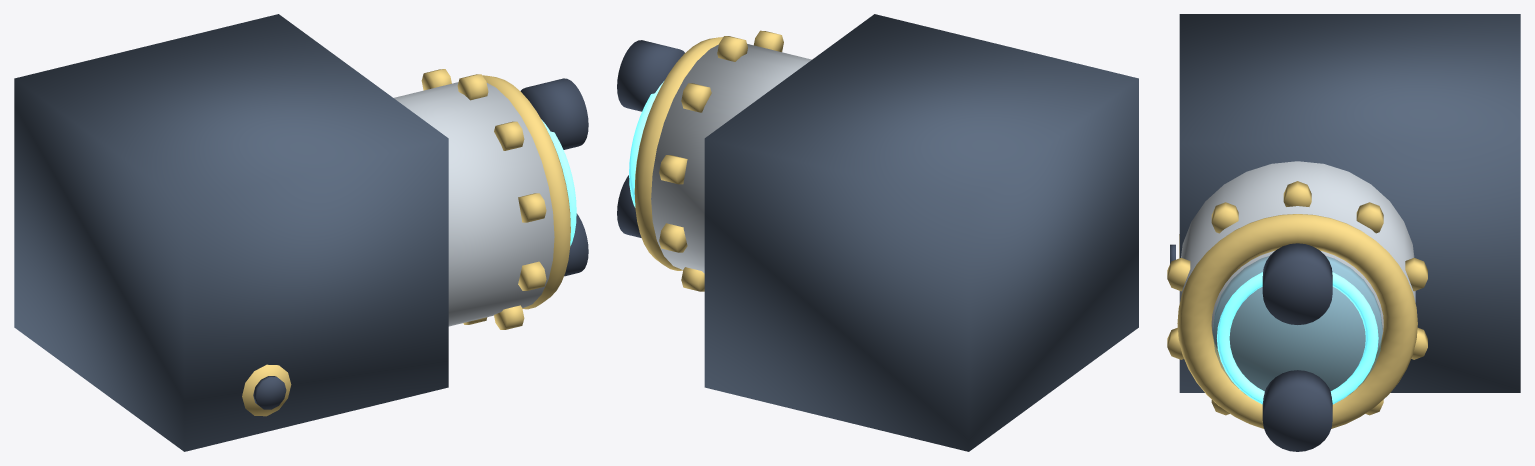
The model's file is 37_L85_StereoNavigationCameraRight.glb.
3 renders of one model, left to right at view 1: azimuth 30°, elevation 25°; view 2: azimuth 150°, elevation 25°; view 3: azimuth 270°, elevation 25°, orthographic.
Parts seen in each view (by area): view 1: L85_StereoNavigationCameraRig_Part_0000, L85_StereoNavigationCameraRig_Part_0001, L85_StereoNavigationCameraRig_Part_0002, L85_StereoNavigationCameraRig_Part_0005, L85_StereoNavigationCameraRig_Part_0006, L85_StereoNavigationCameraRig_Part_0007, L85_StereoNavigationCameraRig_Part_0004; view 2: L85_StereoNavigationCameraRig_Part_0000, L85_StereoNavigationCameraRig_Part_0001, L85_StereoNavigationCameraRig_Part_0002, L85_StereoNavigationCameraRig_Part_0005, L85_StereoNavigationCameraRig_Part_0004; view 3: L85_StereoNavigationCameraRig_Part_0000, L85_StereoNavigationCameraRig_Part_0002, L85_StereoNavigationCameraRig_Part_0001, L85_StereoNavigationCameraRig_Part_0003, L85_StereoNavigationCameraRig_Part_0005, L85_StereoNavigationCameraRig_Part_0004.
Boxes of the visible parts, x1,y1,x2,y2 form: L85_StereoNavigationCameraRig_Part_0000: (14,14,448,451); L85_StereoNavigationCameraRig_Part_0001: (394,82,554,326); L85_StereoNavigationCameraRig_Part_0002: (421,69,570,329); L85_StereoNavigationCameraRig_Part_0005: (520,78,588,276); L85_StereoNavigationCameraRig_Part_0006: (242,364,291,416); L85_StereoNavigationCameraRig_Part_0007: (253,376,286,409); L85_StereoNavigationCameraRig_Part_0004: (541,119,576,245); L85_StereoNavigationCameraRig_Part_0000: (704,14,1138,451); L85_StereoNavigationCameraRig_Part_0001: (651,44,811,273); L85_StereoNavigationCameraRig_Part_0002: (634,30,783,291); L85_StereoNavigationCameraRig_Part_0005: (617,40,684,237); L85_StereoNavigationCameraRig_Part_0004: (629,81,663,207); L85_StereoNavigationCameraRig_Part_0000: (1179,14,1520,392); L85_StereoNavigationCameraRig_Part_0002: (1167,181,1427,428); L85_StereoNavigationCameraRig_Part_0001: (1179,161,1415,390); L85_StereoNavigationCameraRig_Part_0003: (1213,256,1382,394); L85_StereoNavigationCameraRig_Part_0005: (1262,243,1332,451); L85_StereoNavigationCameraRig_Part_0004: (1217,272,1378,404).
Size of the model in its own units: 1.18 by 0.63 by 0.8083.
